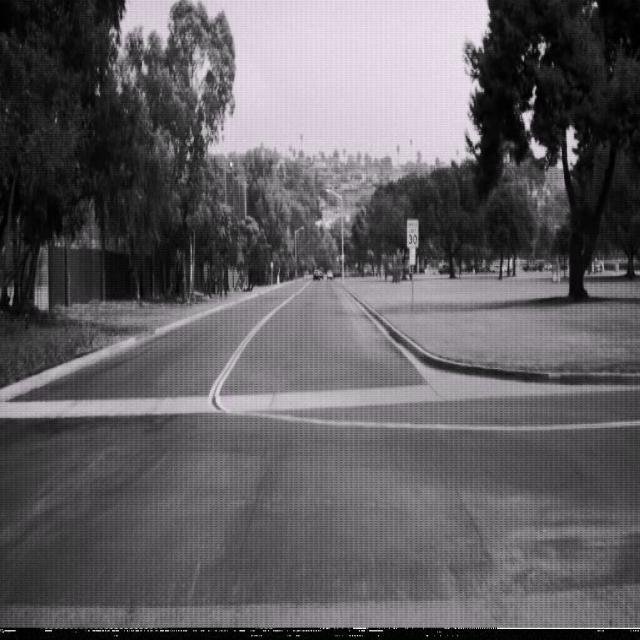speedLimit30: (406, 217, 418, 249)
